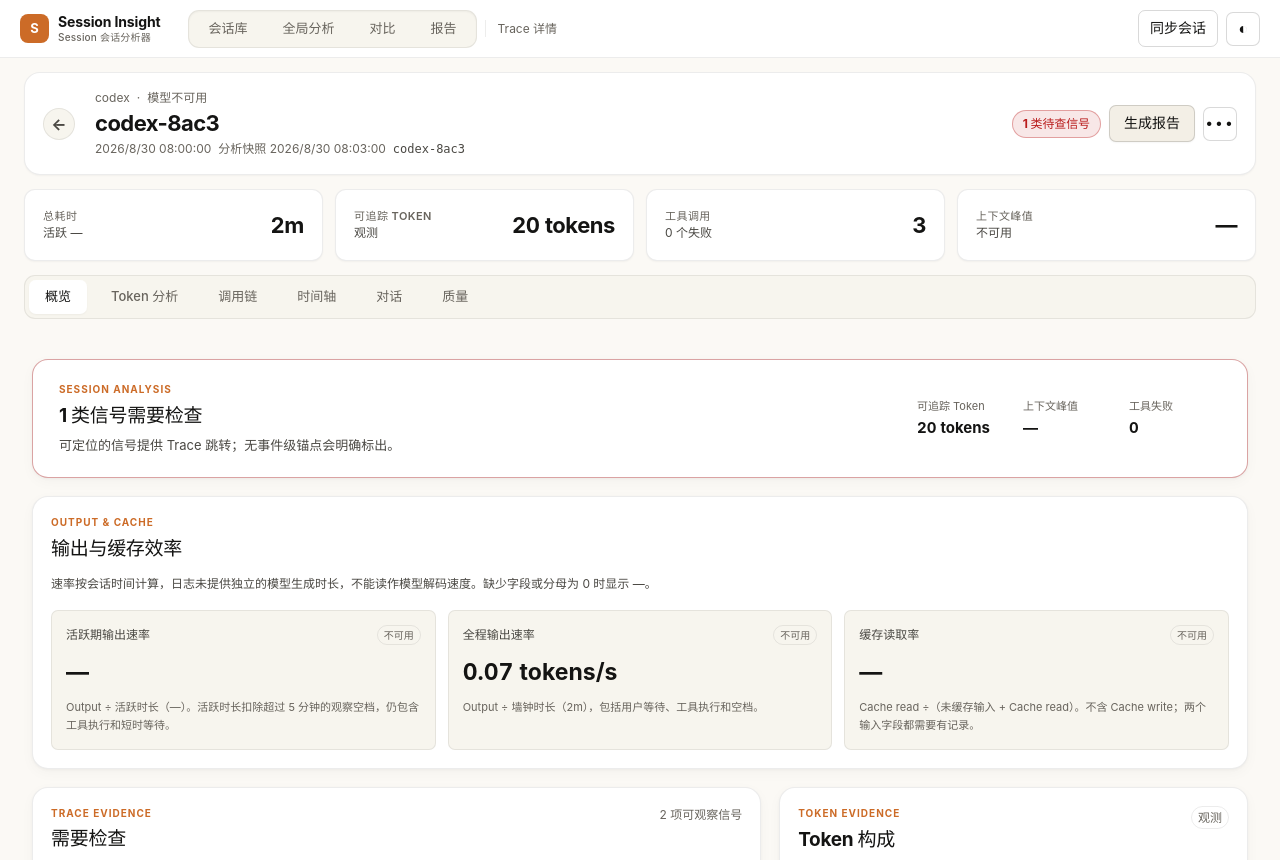
Test: Session Insight › labels trace viewport controls and exposes their pressed state
Click the button "时间轴" at [317, 297], box [281, 280, 352, 314]
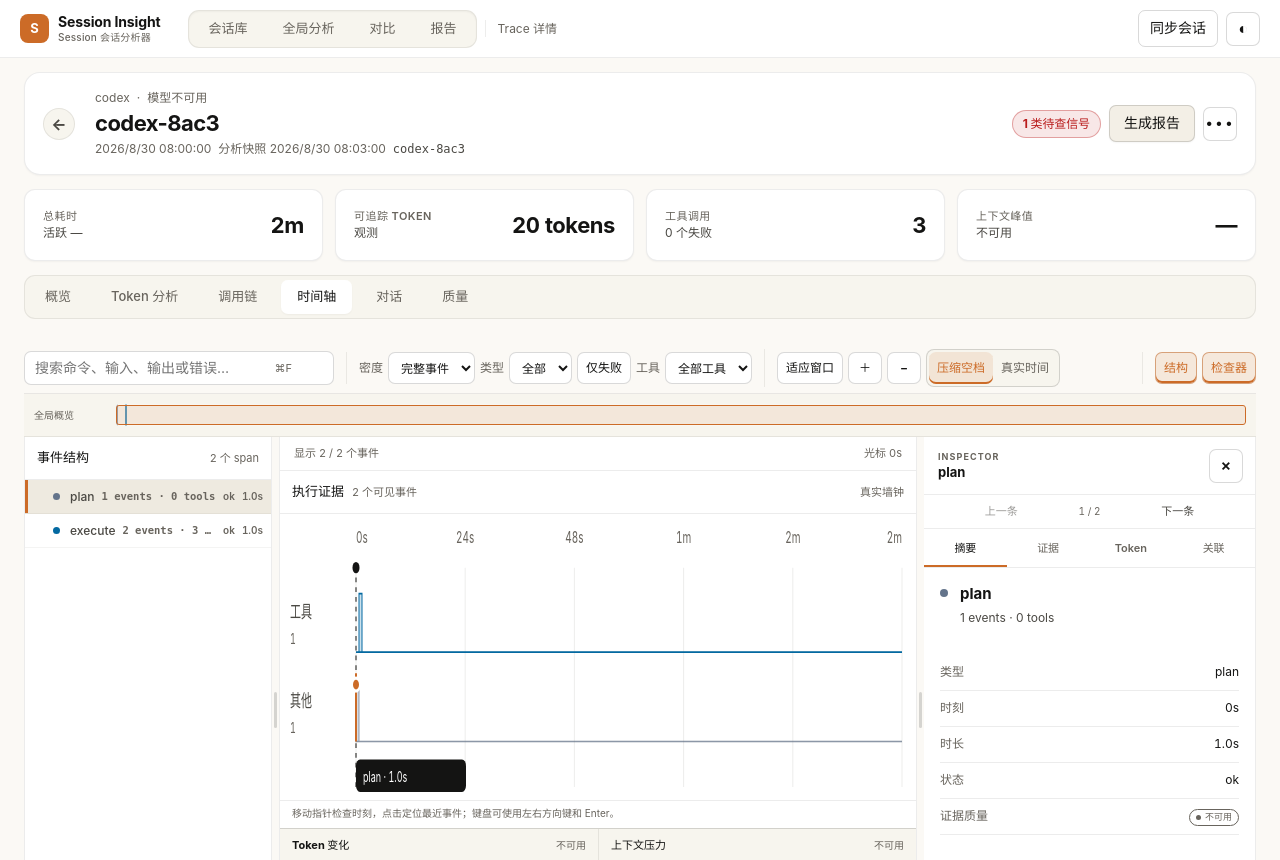
Result: the button named "放大时间轴" is shown at [848, 352, 882, 384]
Result: the button named "缩小时间轴" is shown at [887, 352, 921, 384]
